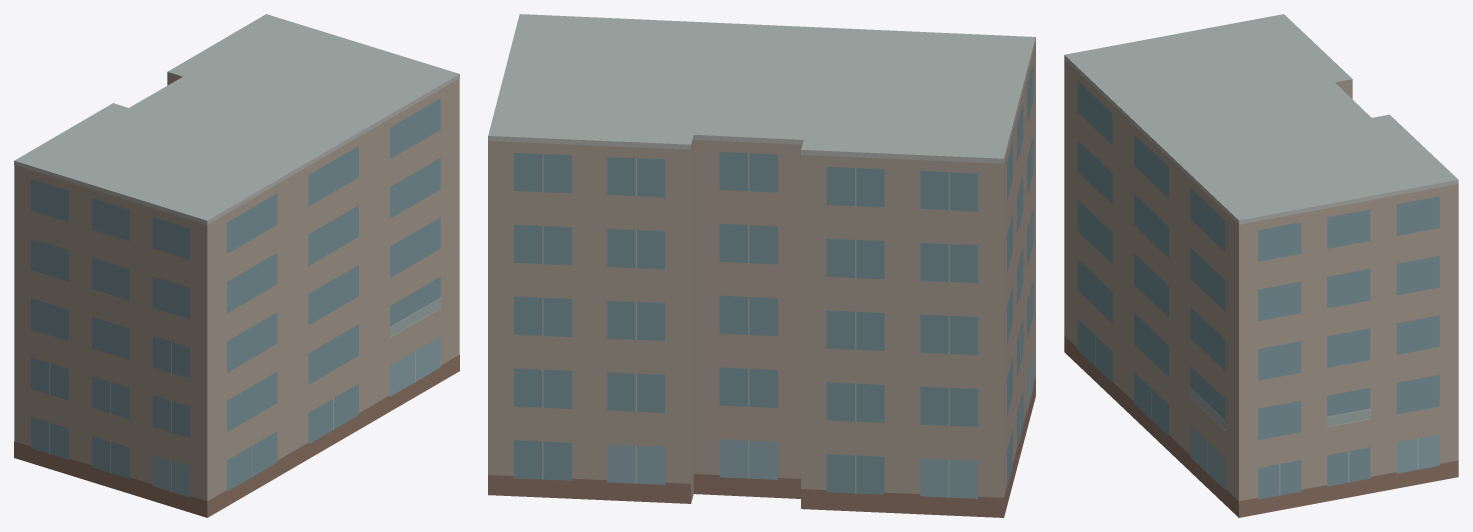
Rendered from survey-upis-32878525.glb.
The picture shows the model from 3 angles, left to right: view 1: azimuth 30°, elevation 25°; view 2: azimuth 150°, elevation 25°; view 3: azimuth 270°, elevation 25°; orthographic projection. The views are drawn at different scales.
Visible parts, largest first — view 1: survey-upis-32878525.tmp; view 2: survey-upis-32878525.tmp; view 3: survey-upis-32878525.tmp.
Boxes of the visible parts, <box> form: survey-upis-32878525.tmp: <box>14,14,459,517</box>; survey-upis-32878525.tmp: <box>488,14,1035,517</box>; survey-upis-32878525.tmp: <box>1064,14,1458,517</box>.
Bounding box in the file's own units: 25.72 × 17.25 × 20.75.
